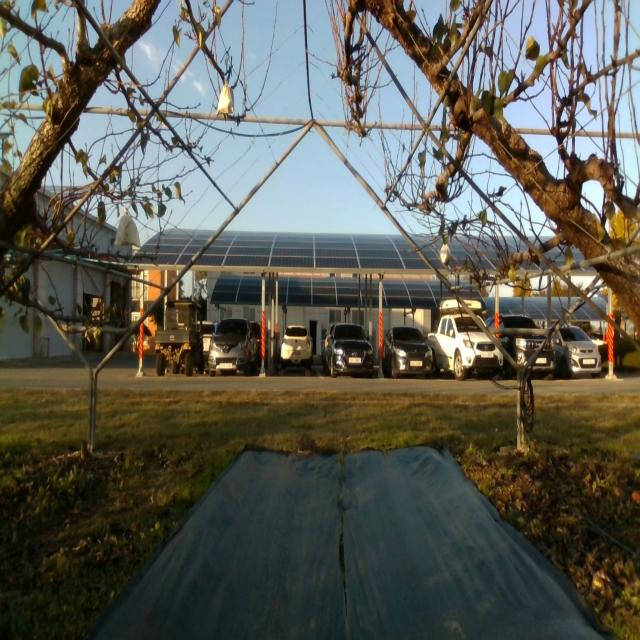pearbags: (116, 215, 140, 248), (216, 84, 234, 116), (440, 244, 450, 265)
